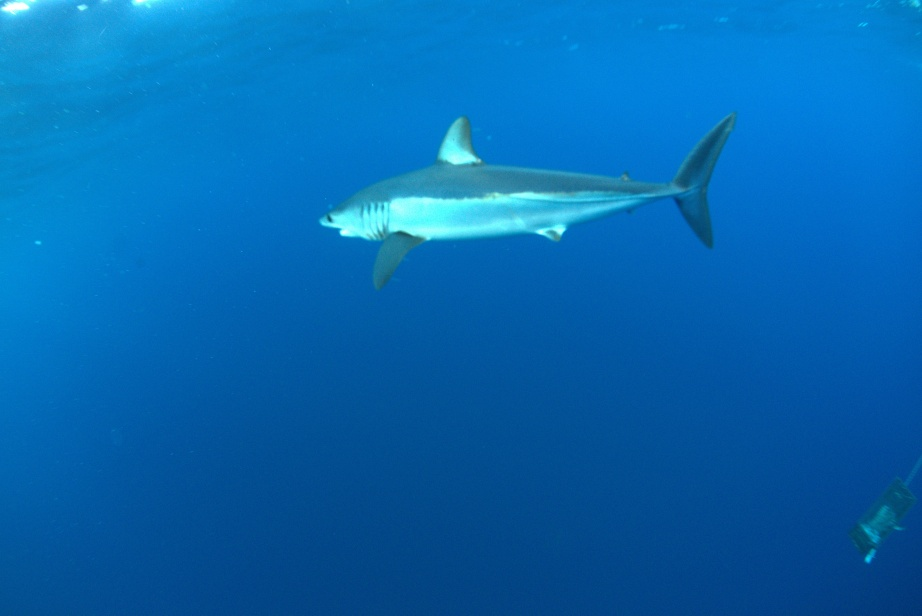Mako: (287, 102, 772, 310)
